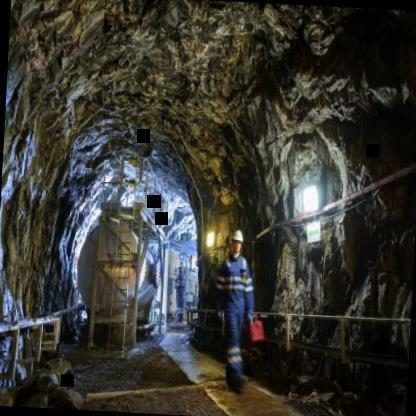helmet: (228, 228, 245, 258)
